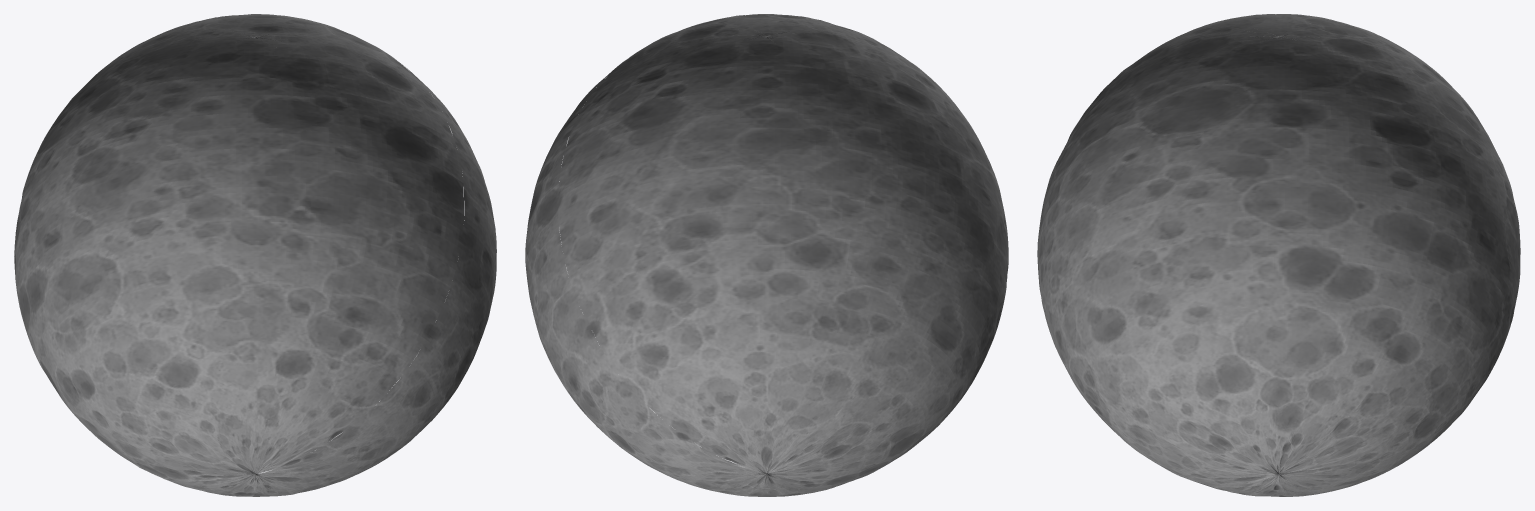
Rendered from moon.glb.
The picture shows the model from 3 angles, left to right: view 1: azimuth 30°, elevation 25°; view 2: azimuth 150°, elevation 25°; view 3: azimuth 270°, elevation 25°; orthographic projection.
Parts seen in each view (by area): view 1: world; view 2: world; view 3: world.
Boxes of the visible parts, x1,y1,x2,y2 form: world: (14, 14, 496, 496); world: (525, 14, 1008, 496); world: (1037, 14, 1520, 496).
Bounding box in the file's own units: 2.01 × 2.02 × 2.01.
1 material, 1 textured.
